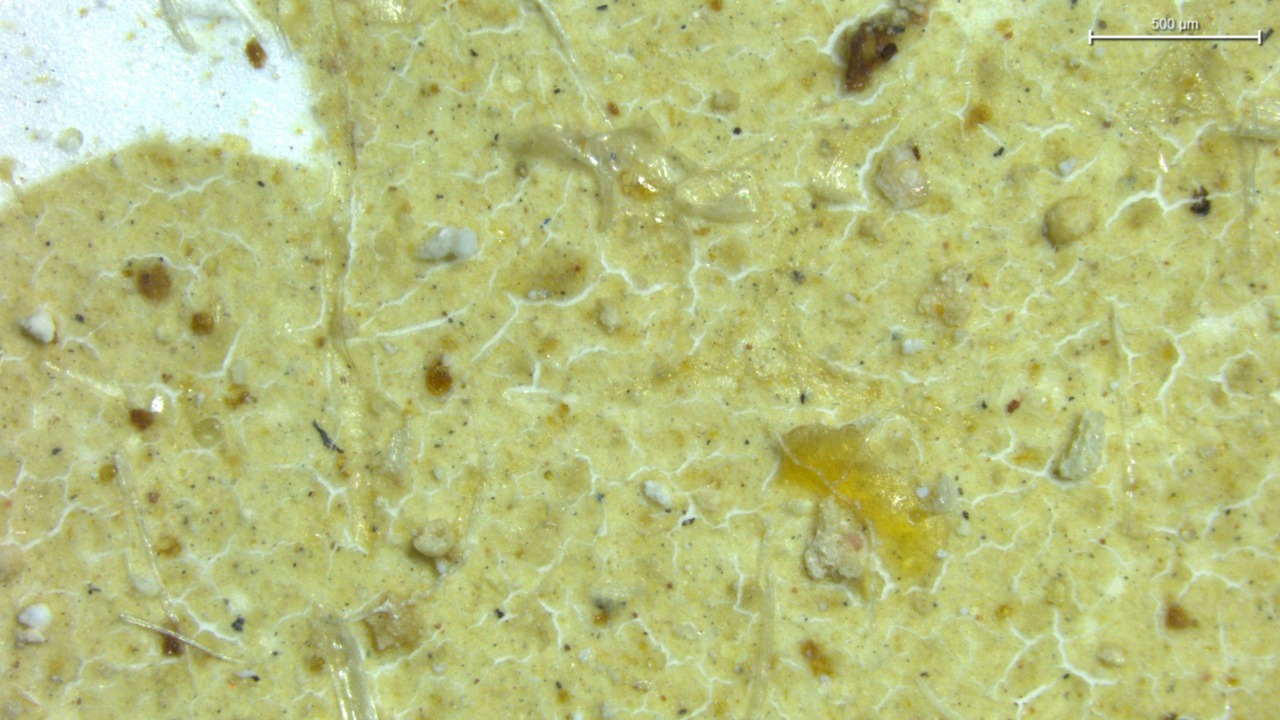microplastic_fragment: (803, 499, 863, 584), (1048, 408, 1107, 487), (416, 226, 478, 266), (414, 519, 453, 557), (16, 603, 51, 642), (21, 317, 55, 346), (643, 481, 674, 508)
